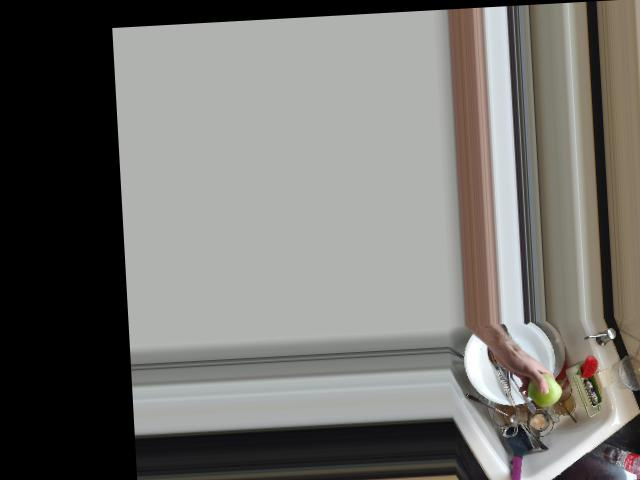apple: (523, 369, 563, 408)
